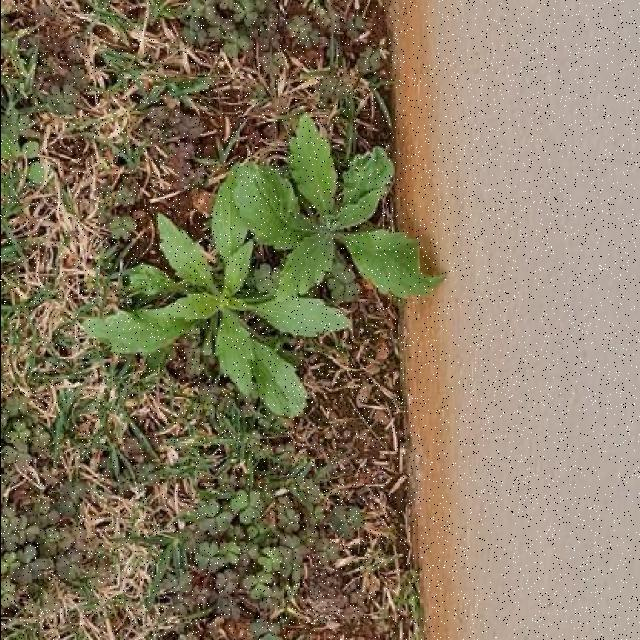weed: (82, 114, 442, 417)
